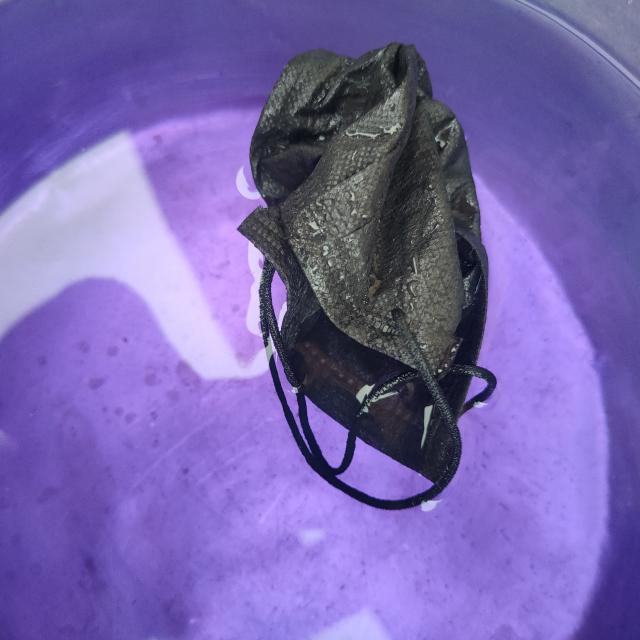litter: (217, 26, 493, 528)
